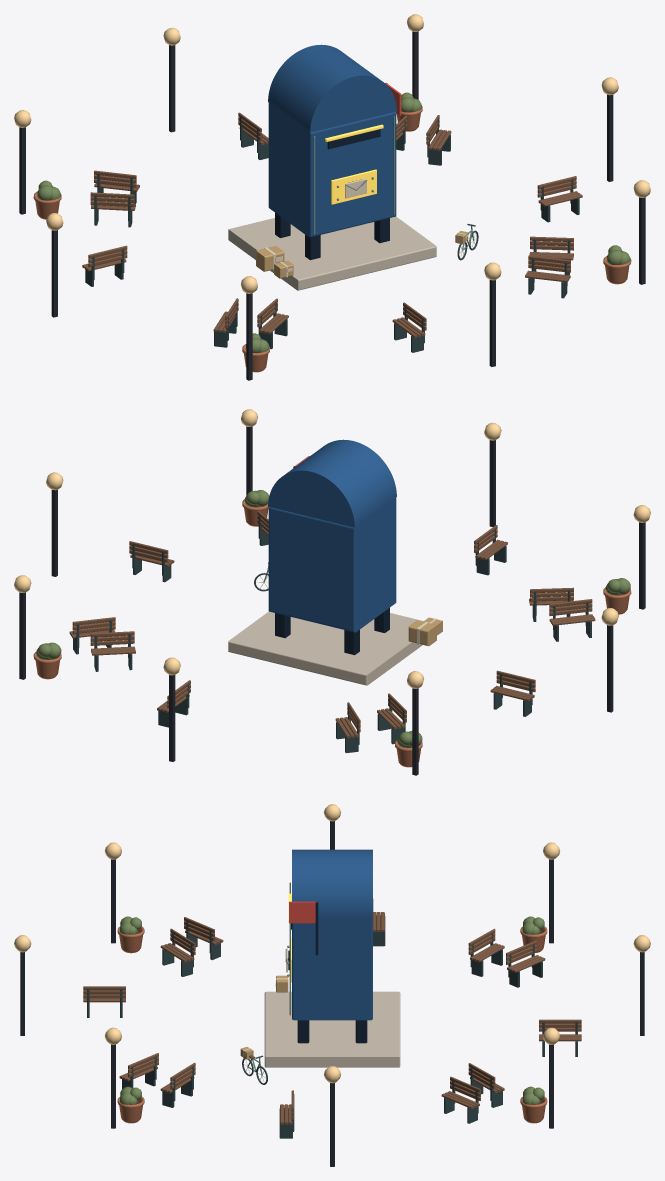
File: home.glb
3 views of the same model, one above another, from view 1: azimuth 30°, elevation 25°; view 2: azimuth 150°, elevation 25°; view 3: azimuth 270°, elevation 25° (orthographic). The views are drawn at different scales.
Parts seen in each view (by area): view 1: part_0, part_0_36, part_0_14, part_0_17, part_0_20, part_0_26, part_0_29, part_0_35, part_0_32, part_0_23; view 2: part_0, part_0_36, part_0_26, part_0_23, part_0_20, part_0_14, part_0_35, part_0_29, part_0_32; view 3: part_0, part_0_36, part_0_29, part_0_35, part_0_32, part_0_20, part_0_11, part_0_23, part_0_17, part_0_14.
Boxes of the visible parts, x1,y1,x2,y2 form: part_0: (14, 14, 650, 380); part_0_36: (33, 92, 631, 372); part_0_14: (537, 176, 582, 222); part_0_17: (525, 255, 570, 298); part_0_20: (392, 302, 426, 352); part_0_26: (82, 245, 127, 286); part_0_29: (94, 170, 139, 203); part_0_35: (426, 115, 451, 165); part_0_32: (238, 112, 268, 159); part_0_23: (213, 298, 238, 347); part_0: (14, 409, 650, 775); part_0_36: (33, 490, 631, 767); part_0_26: (490, 670, 535, 716); part_0_23: (549, 599, 595, 641); part_0_20: (474, 525, 507, 575); part_0_14: (129, 541, 174, 582); part_0_35: (69, 617, 115, 654); part_0_29: (335, 702, 360, 753); part_0_32: (157, 680, 190, 727); part_0: (14, 804, 650, 1166); part_0_36: (117, 882, 547, 1123); part_0_29: (506, 940, 545, 987); part_0_35: (441, 1076, 480, 1123); part_0_32: (539, 1019, 581, 1056); part_0_20: (83, 986, 125, 1017); part_0_11: (289, 901, 318, 955); part_0_23: (184, 917, 223, 960); part_0_17: (119, 1053, 158, 1088); part_0_14: (279, 1090, 294, 1138).
Size of the model in its own units: 32.9 by 10.3 by 32.9.
